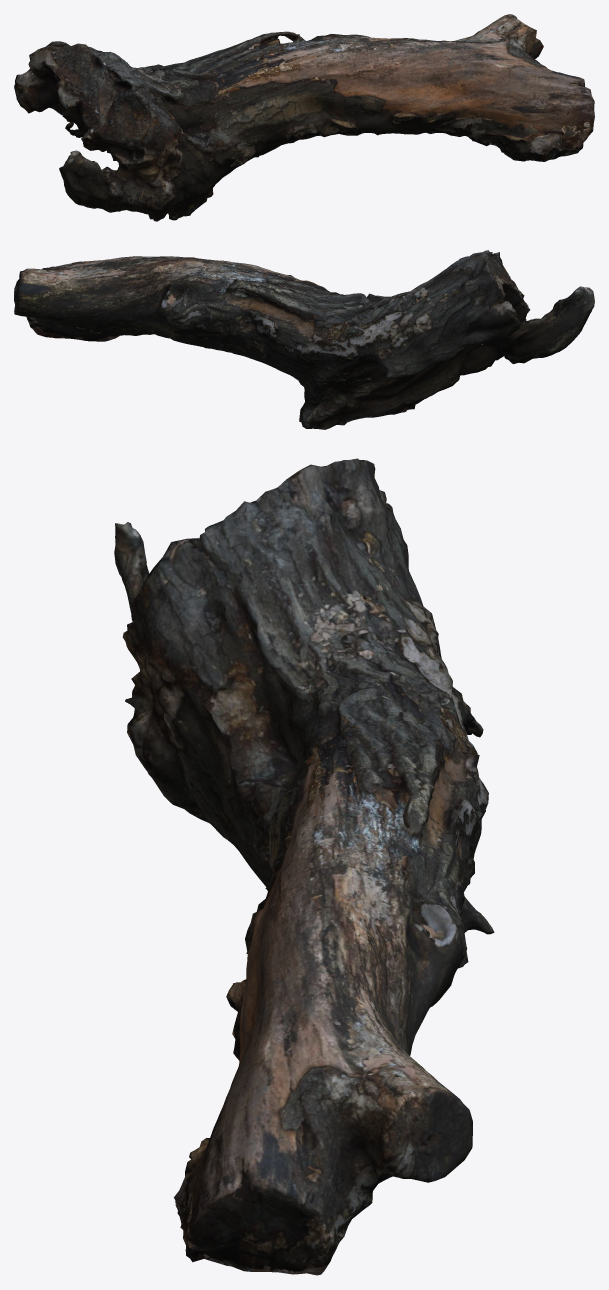
The model's file is log.glb.
3 renders of one model, top to bottom at view 1: azimuth 30°, elevation 25°; view 2: azimuth 150°, elevation 25°; view 3: azimuth 270°, elevation 25°, orthographic. The views are drawn at different scales.
Parts seen in each view (by area): view 1: log; view 2: log; view 3: log.
Boxes of the visible parts, x1,y1,x2,y2 form: log: (14,14,594,221); log: (14,250,594,429); log: (114,458,494,1275).
Size of the model in its own units: 1 by 0.3409 by 0.3147.
1 material, 1 textured.
